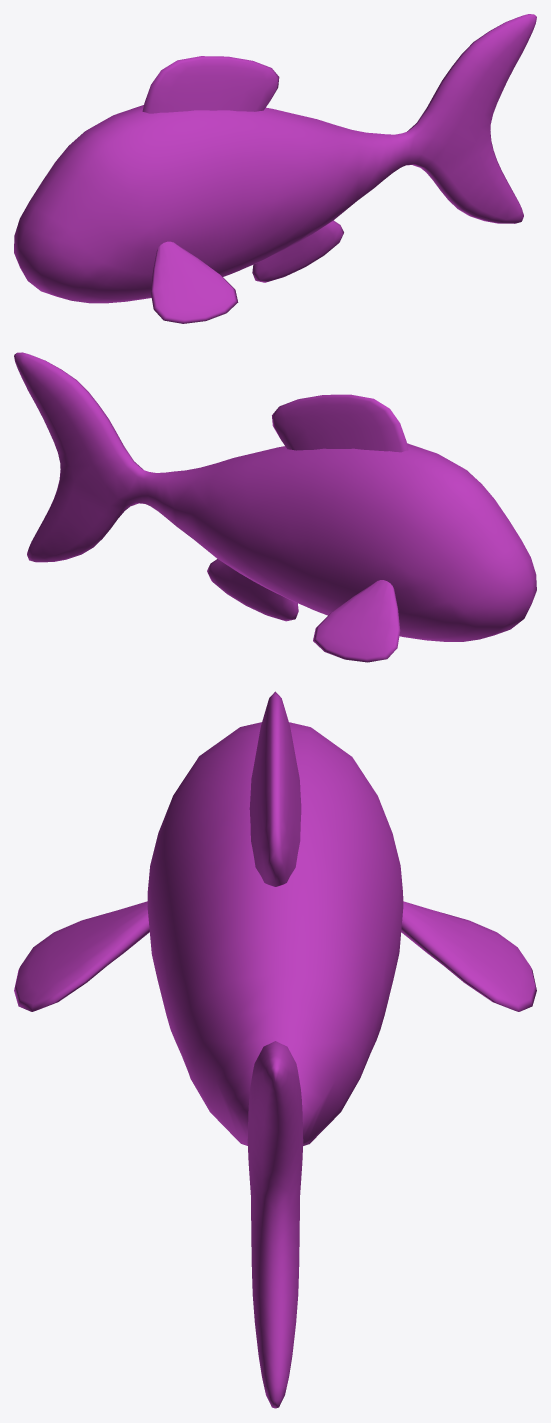
File: pez.glb
3 views of the same model, one above another, from view 1: azimuth 30°, elevation 25°; view 2: azimuth 150°, elevation 25°; view 3: azimuth 270°, elevation 25° (orthographic). The views are drawn at different scales.
Parts seen in each view (by area): view 1: mesh_id32; view 2: mesh_id32; view 3: mesh_id32.
Part boxes in pixels (box(x1,y1,x2,y2)): mesh_id32: box(14, 14, 536, 323); mesh_id32: box(14, 352, 536, 662); mesh_id32: box(14, 691, 536, 1408).
Bounding box in the file's own units: 0.369 × 0.1676 × 0.1869.
1 material, 1 textured.
